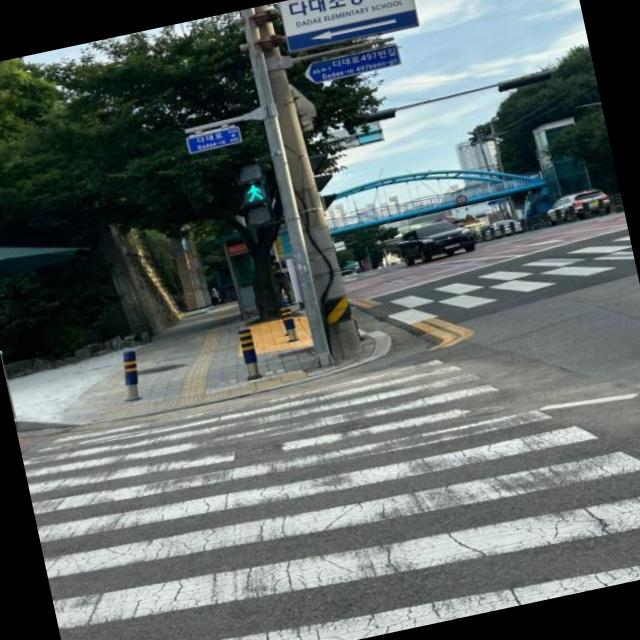green_light: (242, 180, 268, 207)
